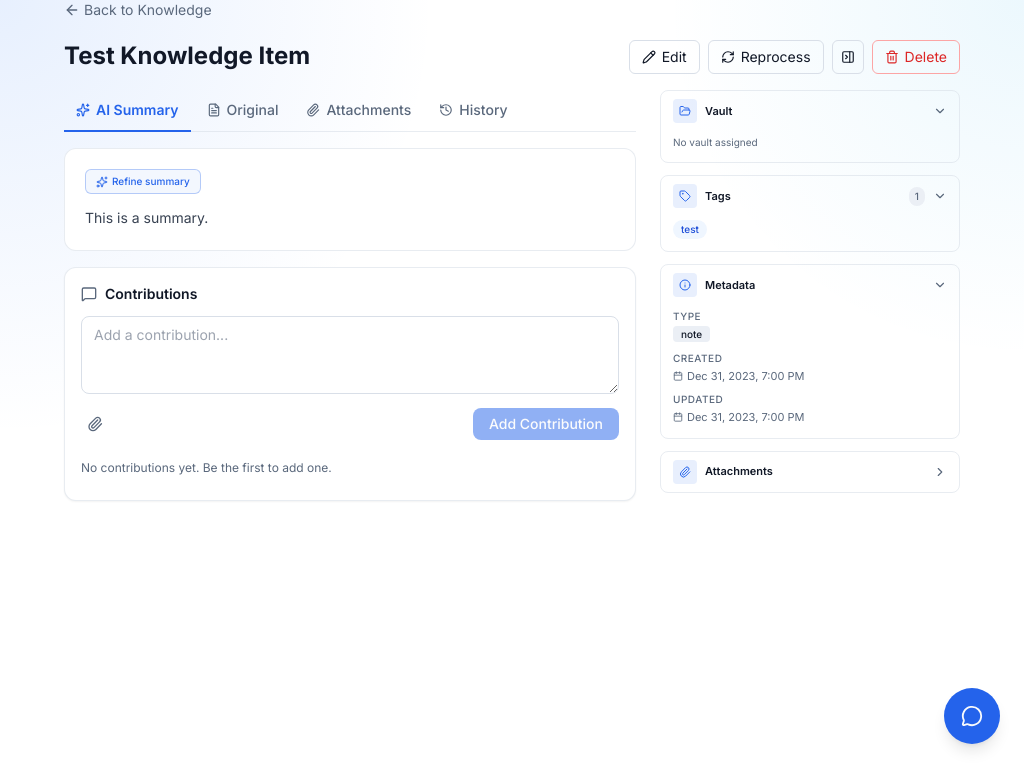
Test case: KnowledgeChatPanel › Maximize/Minimize Toggle › Should_ShrinkPanel_WhenMinimizeClicked
The image size is (1024, 768).
Check: the heading "Test Knowledge Item" is shown, box x1=64 y1=40 x2=310 y2=72
Click the button titled "Chat with this knowledge item": {"x": 972, "y": 716} x1=944 y1=688 x2=1000 y2=744
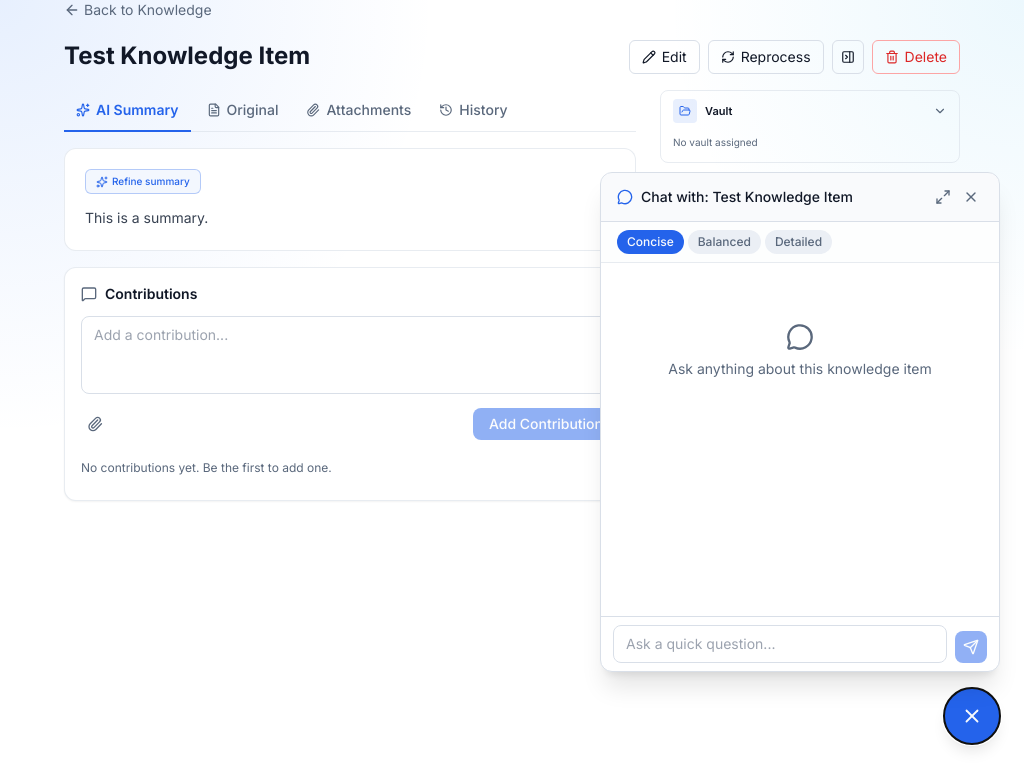
Click the button named "Maximize chat": {"x": 943, "y": 197} x1=931 y1=185 x2=955 y2=209
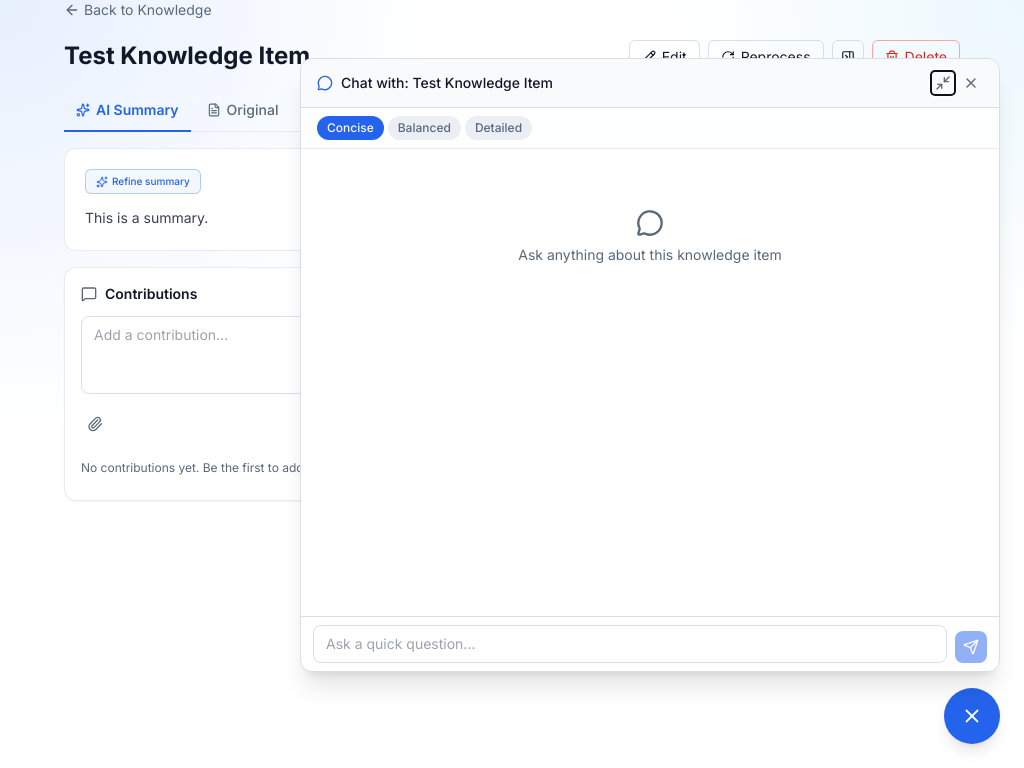
Click the button named "Minimize chat": {"x": 943, "y": 83} x1=931 y1=71 x2=955 y2=95
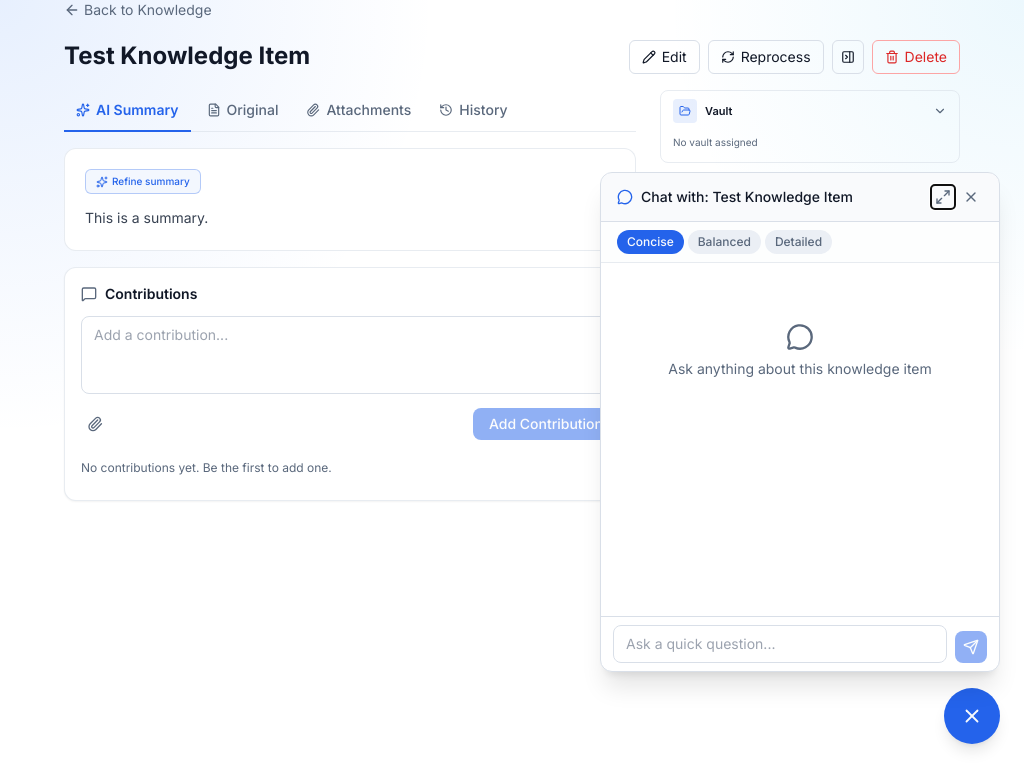
Check: the button named "Maximize chat" is shown, box x1=931 y1=185 x2=955 y2=209
